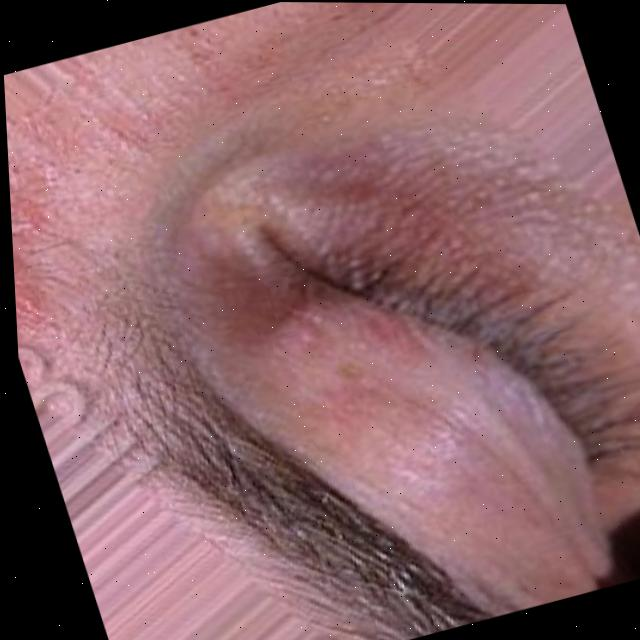Rosacea: (242, 261, 578, 632), (4, 86, 173, 327)
